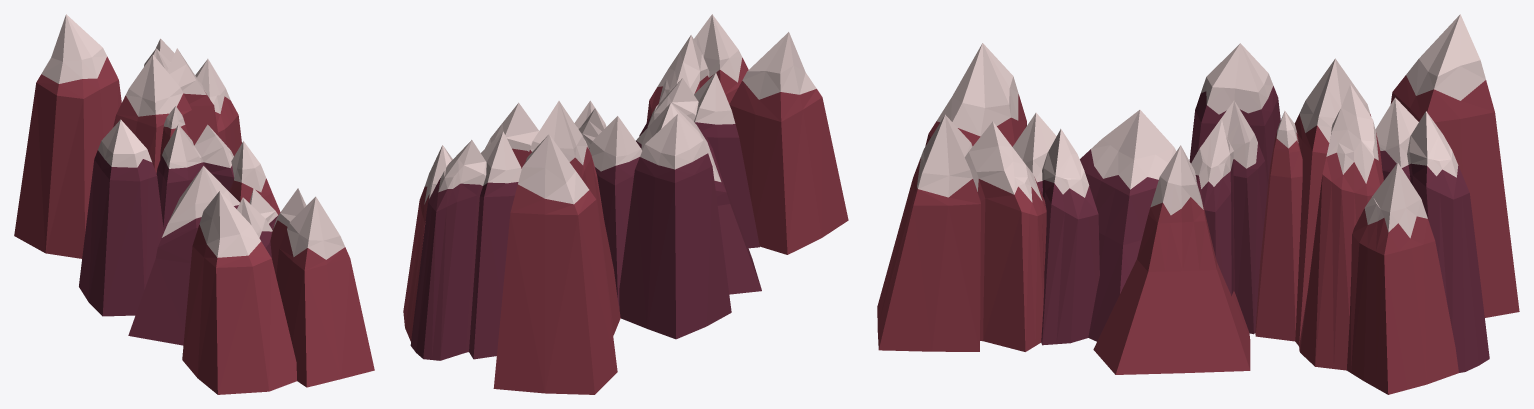
The model's file is Montanhas.dae.
The picture shows the model from 3 angles, left to right: view 1: azimuth 30°, elevation 25°; view 2: azimuth 150°, elevation 25°; view 3: azimuth 270°, elevation 25°; orthographic projection. The views are drawn at different scales.
Parts seen in each view (by area): view 1: Montanha.010, Montanha.006, Montanha.009, Montanha.003, Montanha.005, Montanha.004, Montanha.002, Montanha.008, Montanha.001, Montanha.011, Montanha.012, Montanha.007; view 2: Montanha.006, Montanha.003, Montanha.007, Montanha.010, Montanha.011, Montanha.002, Montanha.004, Montanha.009, Montanha.005, Montanha.008; view 3: Montanha.009, Montanha.001, Montanha.008, Montanha.004, Montanha.006, Montanha.007, Montanha.011, Montanha.005, Montanha.002, Montanha.012, Montanha.003, Montanha.010.
Boxes of the visible parts, <box> form: Montanha.010: <box>182,191,297,394</box>; Montanha.006: <box>14,14,121,258</box>; Montanha.009: <box>270,188,374,387</box>; Montanha.003: <box>79,119,163,316</box>; Montanha.005: <box>128,166,239,345</box>; Montanha.004: <box>113,48,218,173</box>; Montanha.002: <box>156,124,234,231</box>; Montanha.008: <box>195,59,241,156</box>; Montanha.001: <box>229,141,280,214</box>; Montanha.011: <box>237,188,278,258</box>; Montanha.012: <box>160,106,188,159</box>; Montanha.007: <box>144,38,174,70</box>; Montanha.006: <box>493,134,617,394</box>; Montanha.003: <box>619,114,731,339</box>; Montanha.007: <box>410,131,521,360</box>; Montanha.010: <box>729,32,848,254</box>; Montanha.011: <box>639,73,759,248</box>; Montanha.002: <box>578,108,641,308</box>; Montanha.004: <box>485,101,620,335</box>; Montanha.009: <box>646,14,748,122</box>; Montanha.005: <box>636,103,761,294</box>; Montanha.008: <box>403,145,452,341</box>; Montanha.009: <box>877,114,1046,351</box>; Montanha.001: <box>1093,145,1250,374</box>; Montanha.008: <box>1346,162,1458,394</box>; Montanha.004: <box>1294,58,1383,370</box>; Montanha.006: <box>1390,14,1519,317</box>; Montanha.007: <box>1375,97,1489,372</box>; Montanha.011: <box>1012,112,1099,345</box>; Montanha.005: <box>1080,110,1176,341</box>; Montanha.002: <box>1191,100,1267,334</box>; Montanha.012: <box>1255,110,1302,341</box>; Montanha.003: <box>1189,43,1280,184</box>; Montanha.010: <box>925,43,1026,146</box>.
Bounding box in the file's own units: 79.84 × 155 × 74.77.
